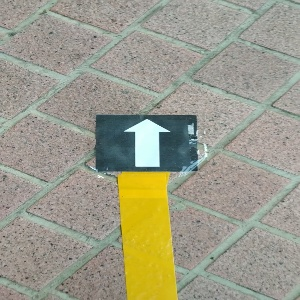straight: (97, 116, 197, 171)
